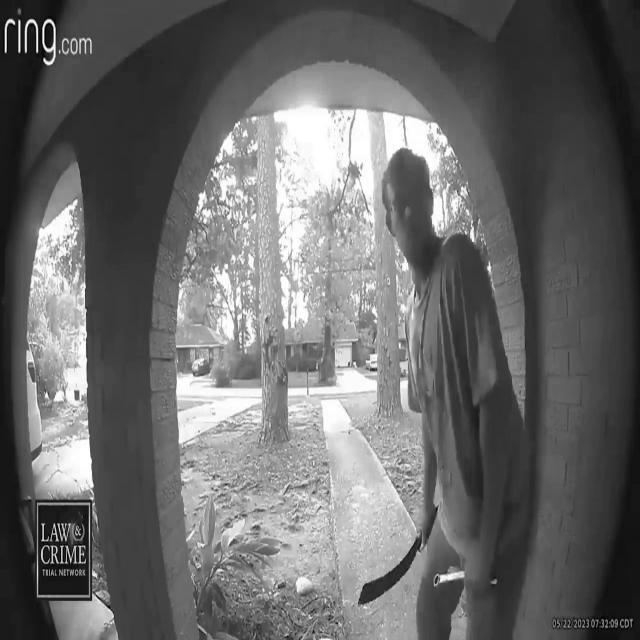weapon: (351, 110, 527, 640)
